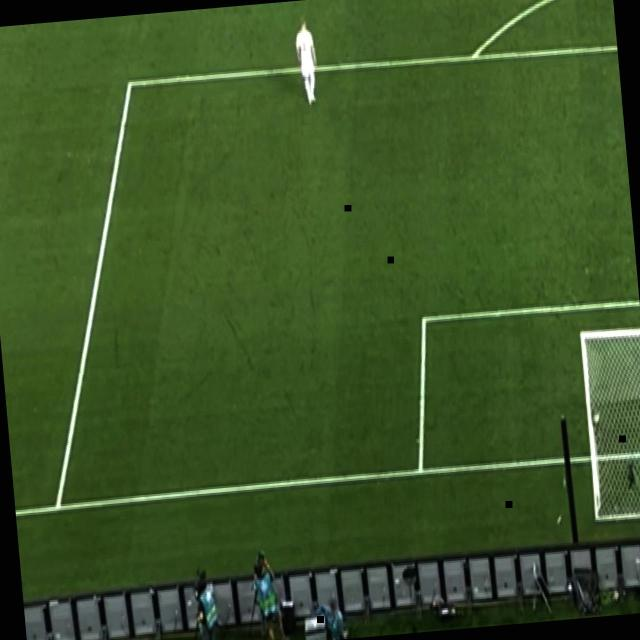player-white: (292, 12, 326, 111)
